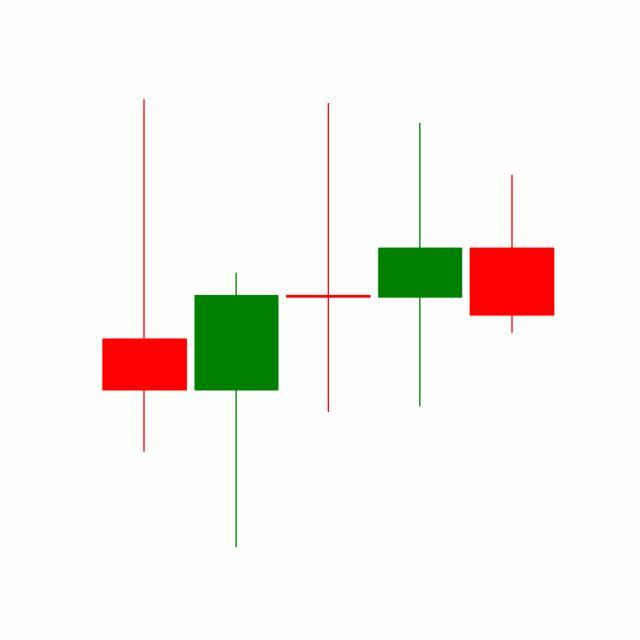Spinning Top: (374, 121, 468, 411)
